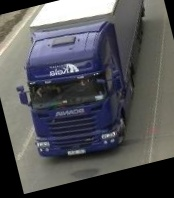truck: (0, 0, 174, 169)
